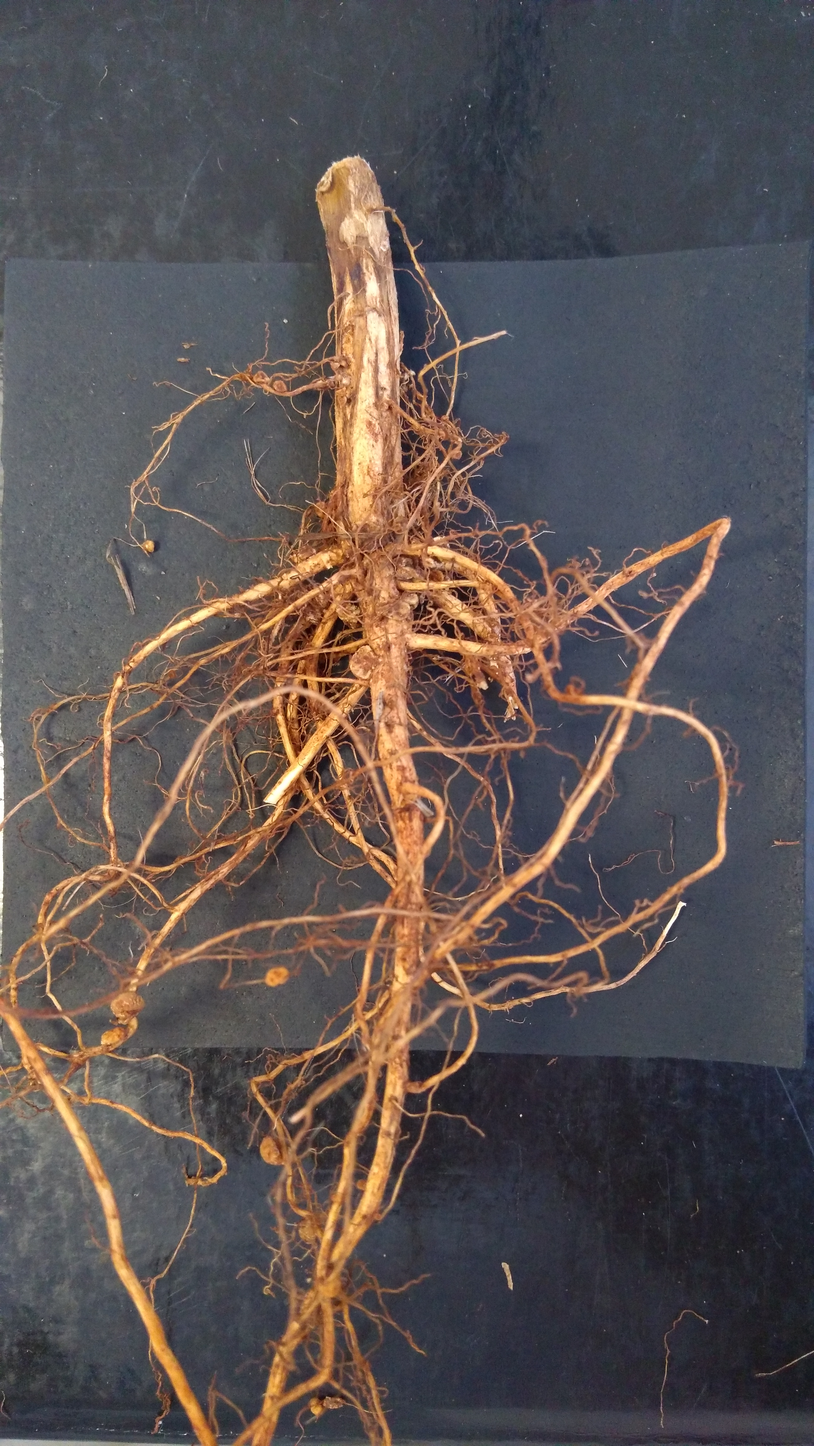nodule: (109, 990, 147, 1026), (348, 642, 380, 683), (256, 1133, 287, 1170), (376, 598, 413, 622), (335, 599, 363, 630), (296, 1214, 320, 1249), (99, 1027, 133, 1050), (263, 964, 291, 989), (322, 1395, 350, 1410), (253, 367, 272, 387), (400, 590, 419, 610), (390, 554, 417, 568), (312, 499, 330, 520), (307, 1395, 324, 1416), (393, 566, 416, 581), (313, 590, 329, 608), (354, 1177, 369, 1194), (334, 395, 350, 410), (430, 569, 445, 583), (141, 539, 156, 553), (272, 379, 288, 392), (423, 557, 438, 569), (341, 374, 353, 387), (451, 450, 464, 461), (334, 387, 347, 398), (339, 359, 351, 369), (330, 362, 341, 372), (439, 414, 450, 421)
